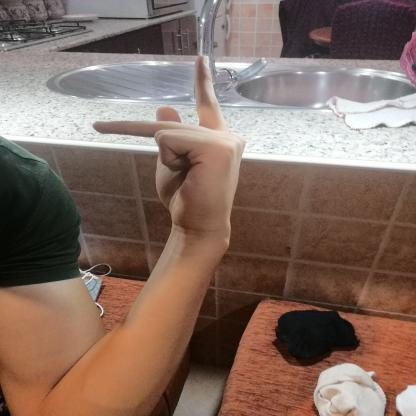DHAA: (81, 45, 255, 241)
